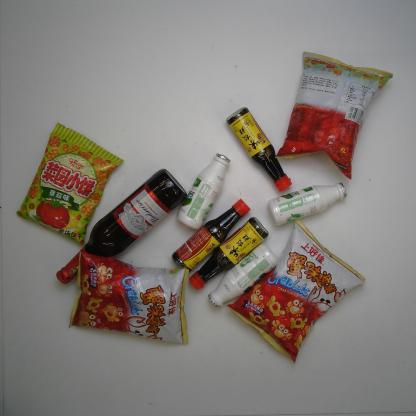Alcohol: (54, 166, 188, 286)
Milk: (207, 242, 279, 310), (176, 151, 232, 231), (266, 180, 349, 226)
Puffed Food: (224, 217, 367, 366), (273, 51, 395, 182), (16, 122, 124, 246), (66, 248, 194, 347)
Seasoner: (169, 197, 252, 276), (224, 103, 294, 194), (188, 216, 270, 291)
